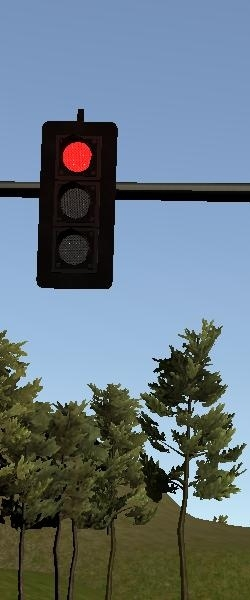Red: (40, 120, 113, 290)
